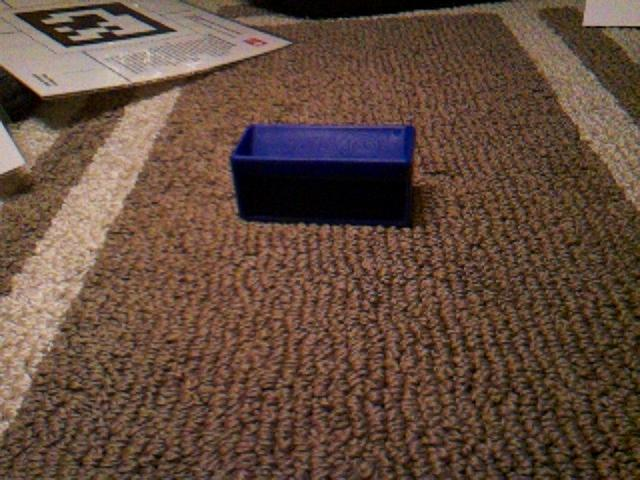blue: (229, 122, 417, 229)
